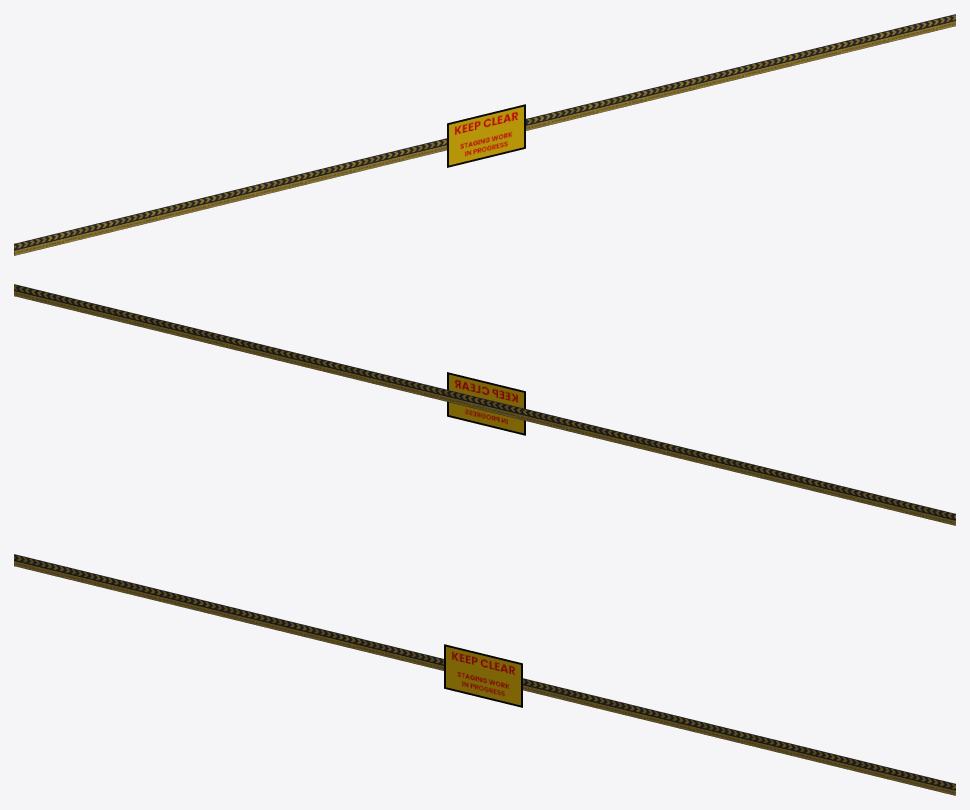
The model's file is Keep clear.fbx.
3 views of the same model, one above another, from view 1: azimuth 30°, elevation 25°; view 2: azimuth 150°, elevation 25°; view 3: azimuth 330°, elevation 25° (orthographic).
Parts seen in each view (by area): view 1: Plane, Untitled-1; view 2: Plane, Untitled-1; view 3: Plane, Untitled-1.
Boxes of the visible parts, x1,y1,x2,y2 form: Plane: (14, 14, 955, 255); Untitled-1: (447, 104, 525, 167); Plane: (14, 284, 955, 525); Untitled-1: (447, 372, 525, 435); Plane: (14, 554, 955, 795); Untitled-1: (444, 644, 522, 707).
Size of the model in its own units: 1994 by 90.22 by 6.44.
3 materials, 2 textured.
